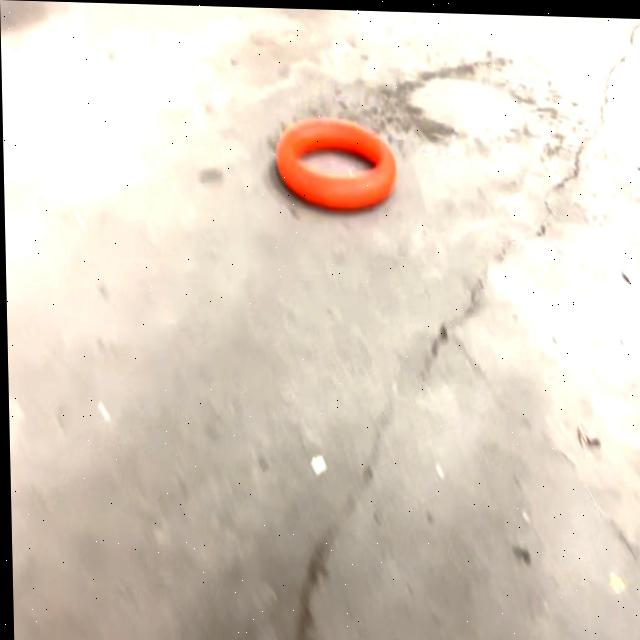note: (271, 117, 400, 212)
